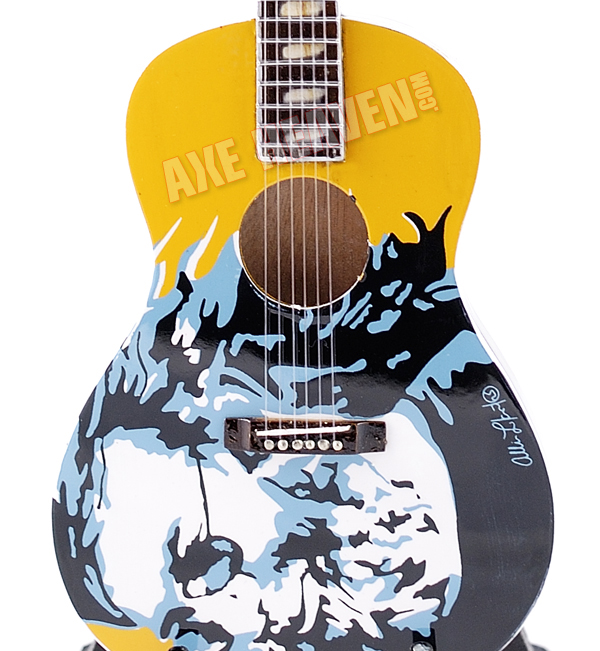guitar: (50, 1, 555, 648)
